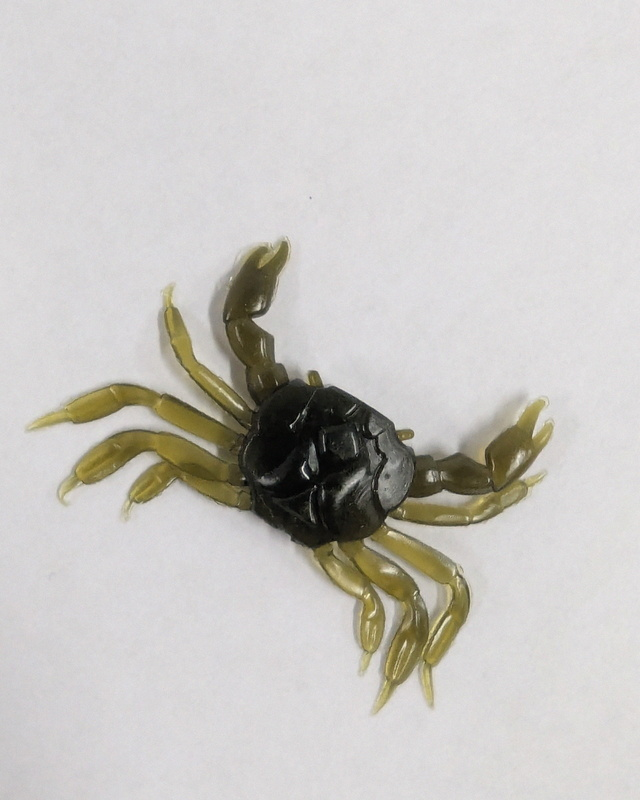crab2: (26, 235, 556, 717)
